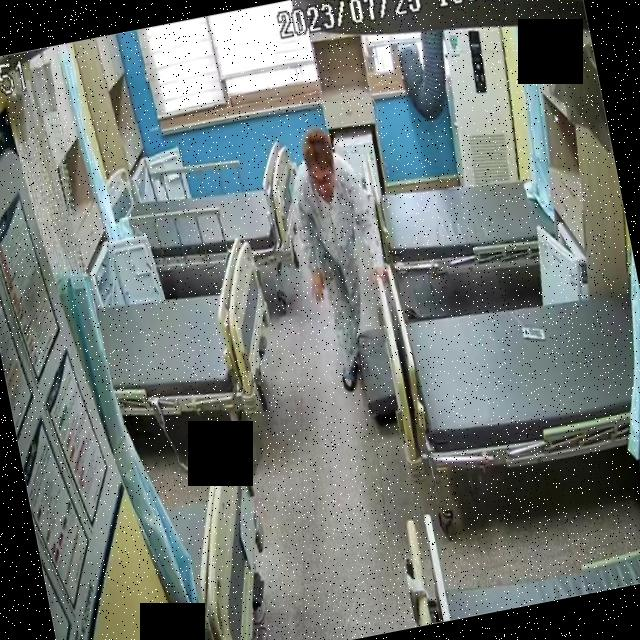bed: (397, 268, 640, 483), (87, 234, 290, 441), (103, 137, 308, 291), (361, 138, 562, 292)
danger: (282, 120, 412, 396)
patient: (281, 120, 410, 394)
